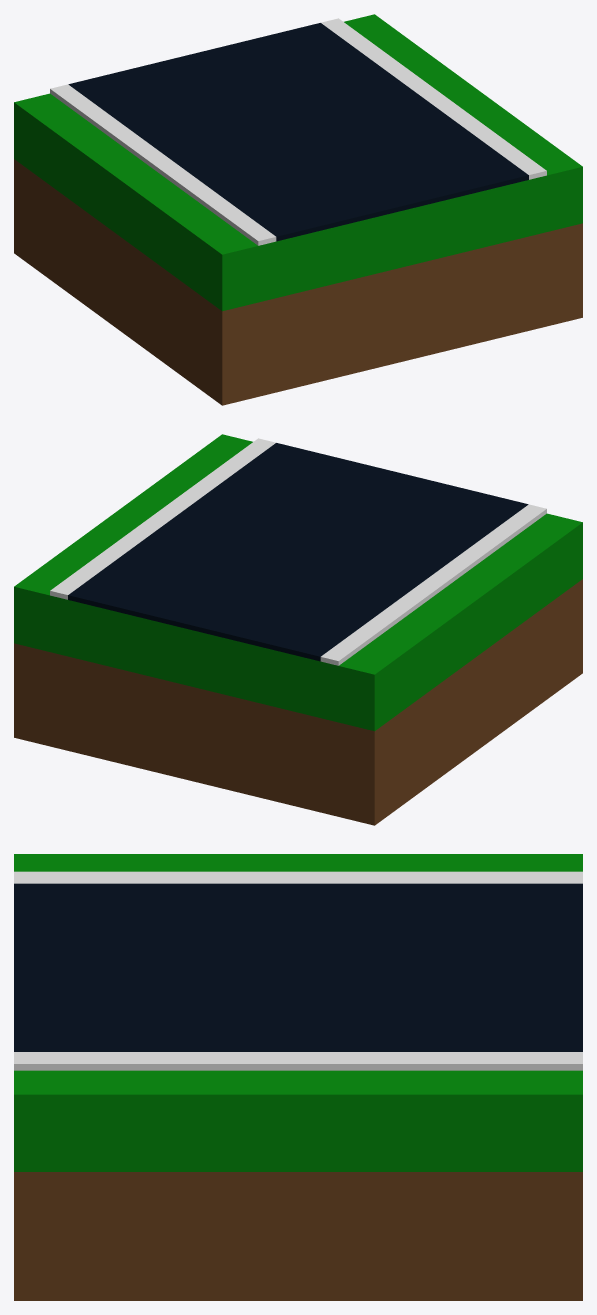
File: S_Road.fbx
The picture shows the model from 3 angles, top to bottom: view 1: azimuth 30°, elevation 25°; view 2: azimuth 150°, elevation 25°; view 3: azimuth 270°, elevation 25°; orthographic projection. The views are drawn at different scales.
Visible parts, largest first — view 1: Base, Pavement; view 2: Base, Pavement; view 3: Base, Pavement.
Boxes of the visible parts, box(x1,y1,x2,y2) form: Base: box(14, 14, 582, 405); Pavement: box(50, 18, 546, 245); Base: box(14, 434, 582, 825); Pavement: box(50, 438, 546, 665); Base: box(14, 854, 582, 1300); Pavement: box(14, 871, 582, 1070).
Size of the model in its own units: 200 by 82.5 by 200.
